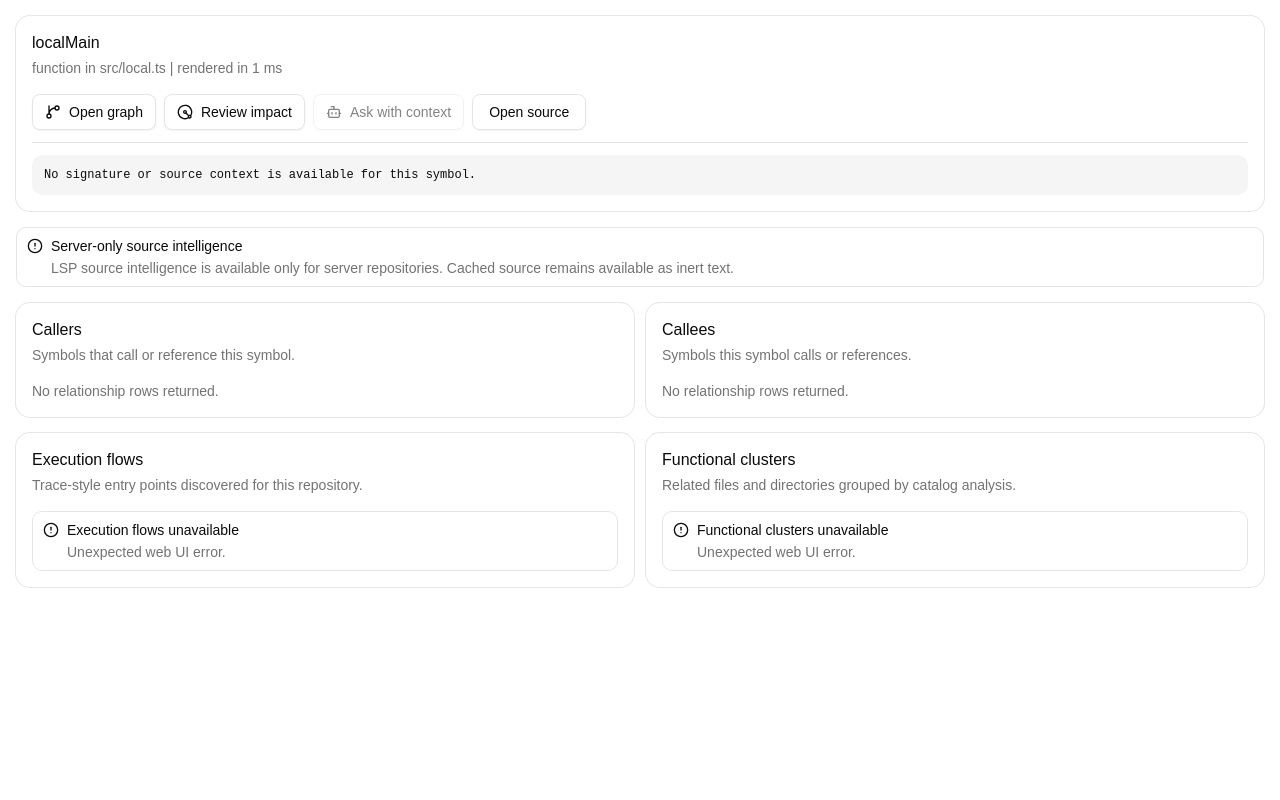
browser-local repository routes › renders cached malicious-looking source as inert text and never opens LSP
Click the button "Open source": coordinates (529, 112) [472,94,586,130]
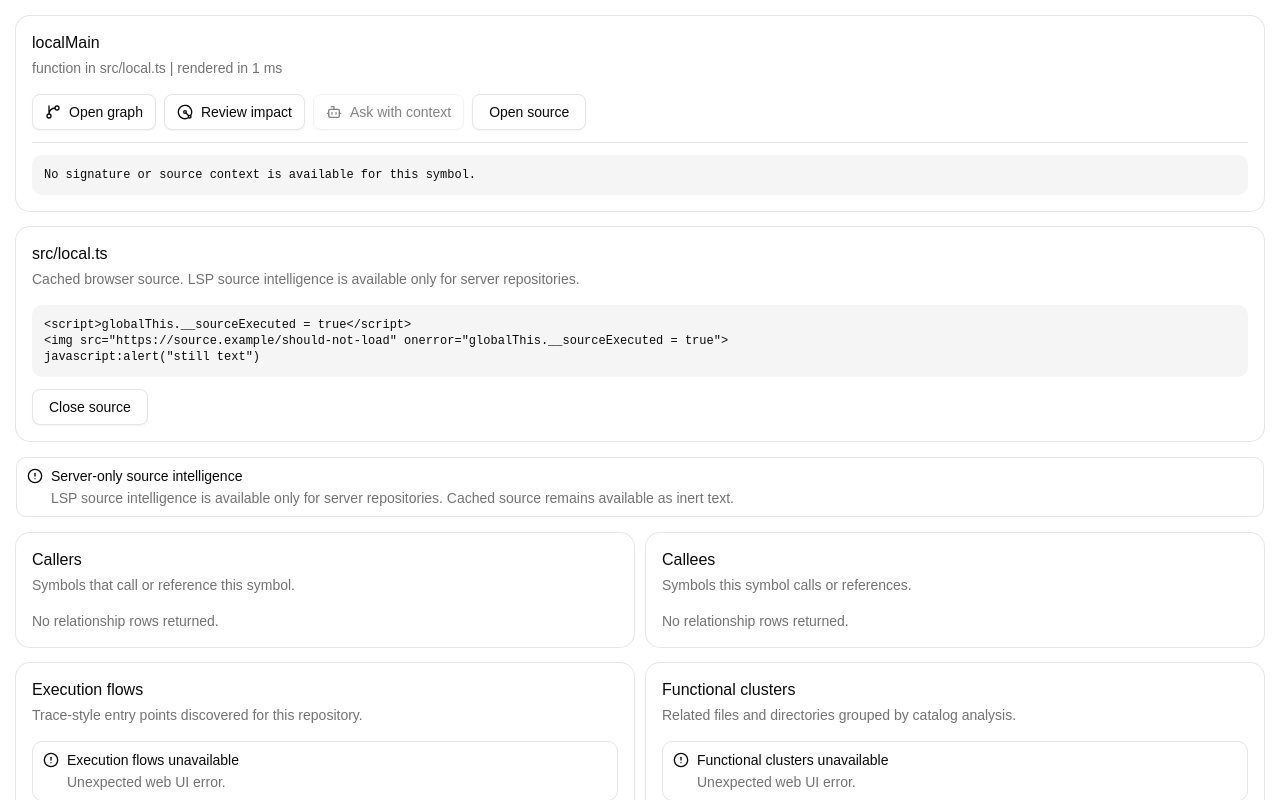
Expected: the text "globalThis.__sourceExecuted = true" is shown, [44,318,728,364]
